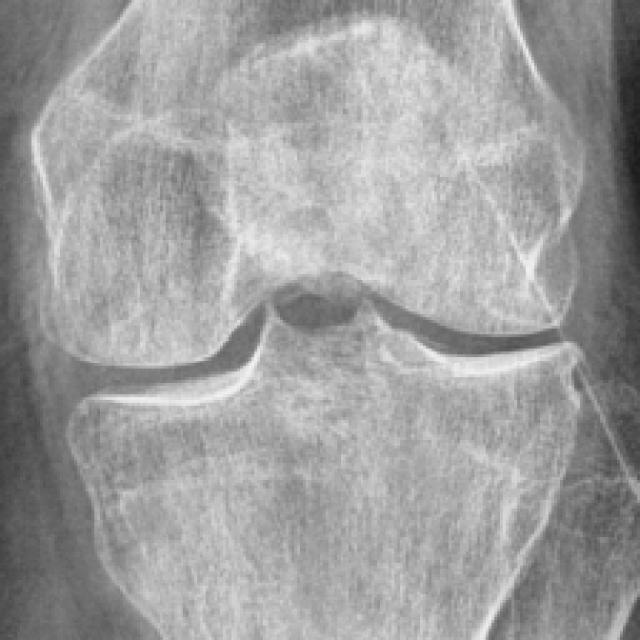femur: (35, 1, 586, 366)
tibia: (71, 311, 587, 637)
